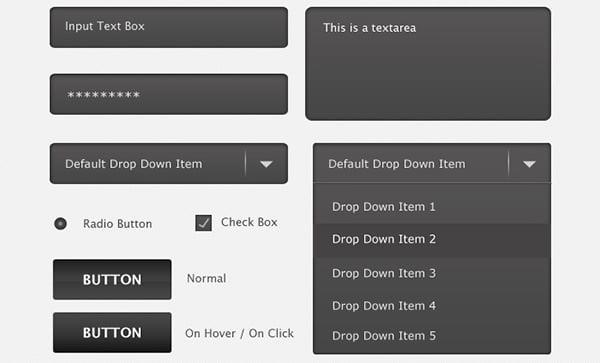button: (53, 313, 173, 355), (53, 260, 174, 301)
checkbox: (196, 216, 213, 232)
dropdown: (50, 143, 290, 185), (315, 143, 552, 185)
input: (51, 74, 289, 116), (50, 8, 290, 48)
label: (183, 327, 298, 343), (79, 218, 159, 234), (221, 217, 284, 231), (186, 274, 231, 288)
radio: (53, 217, 70, 232)
